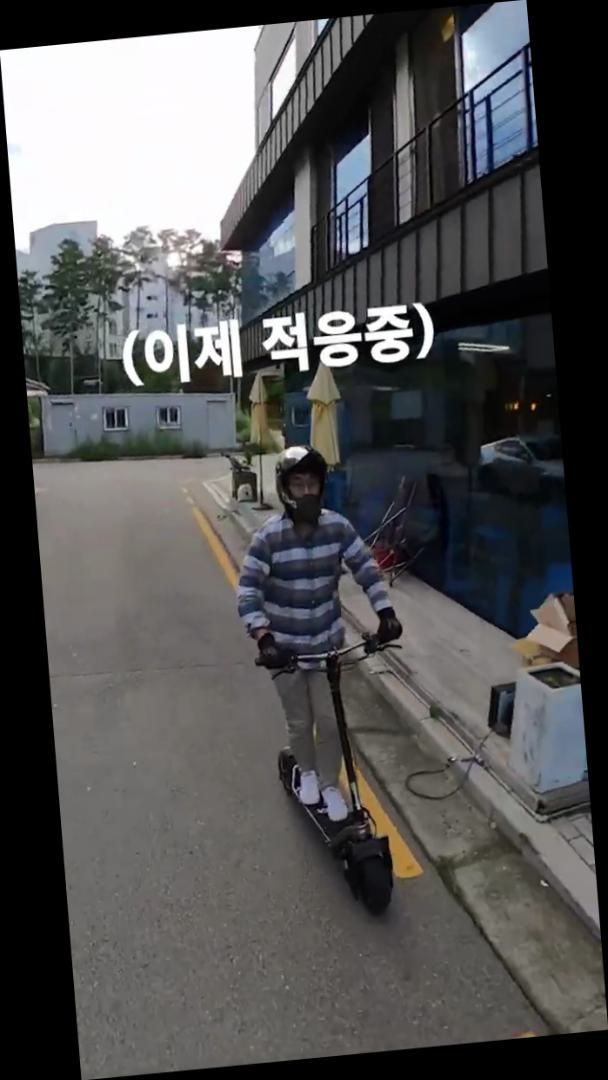helmet: (223, 434, 426, 934)
